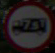Heavy Vehicles: (6, 10, 51, 43)
